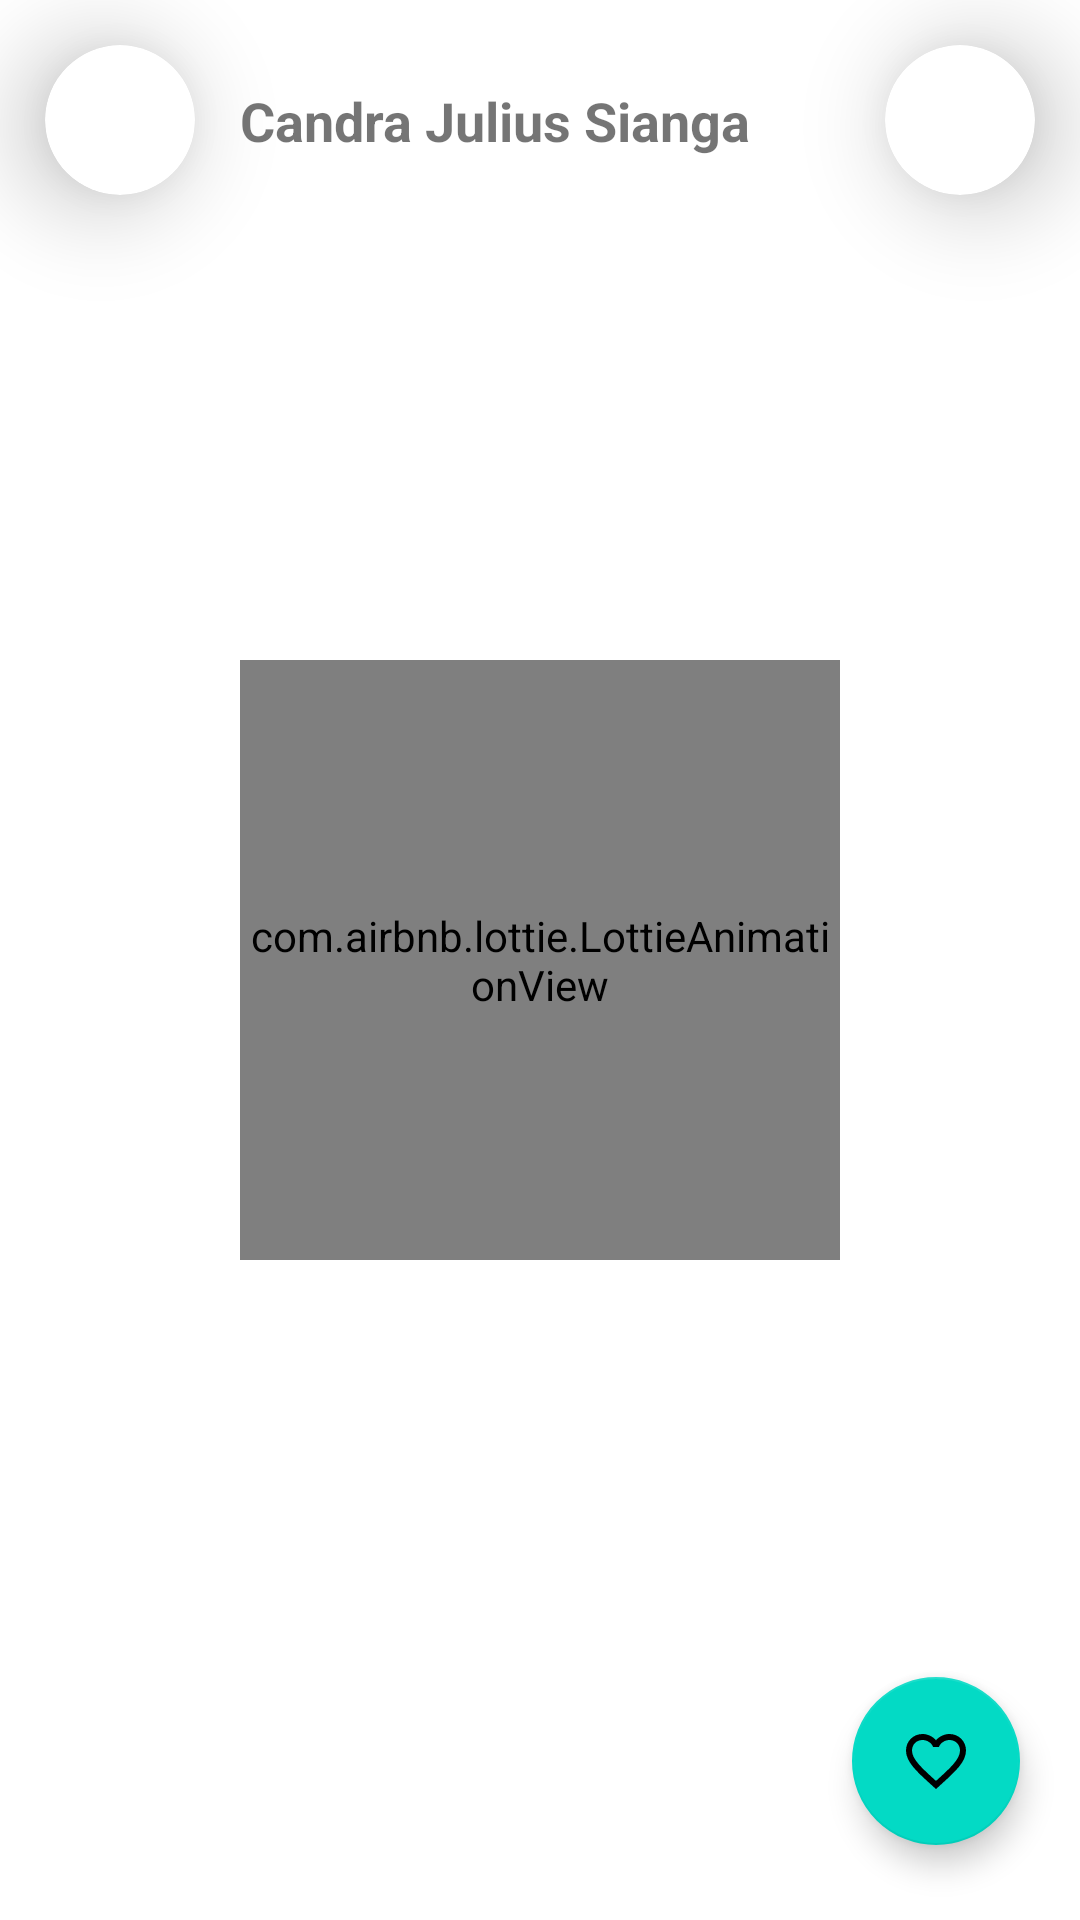

Where icons sit on this 1080px×1920px app screen, as detection(x1, y1, x2, y2):
Favorite: detection(852, 1677, 1020, 1845)
